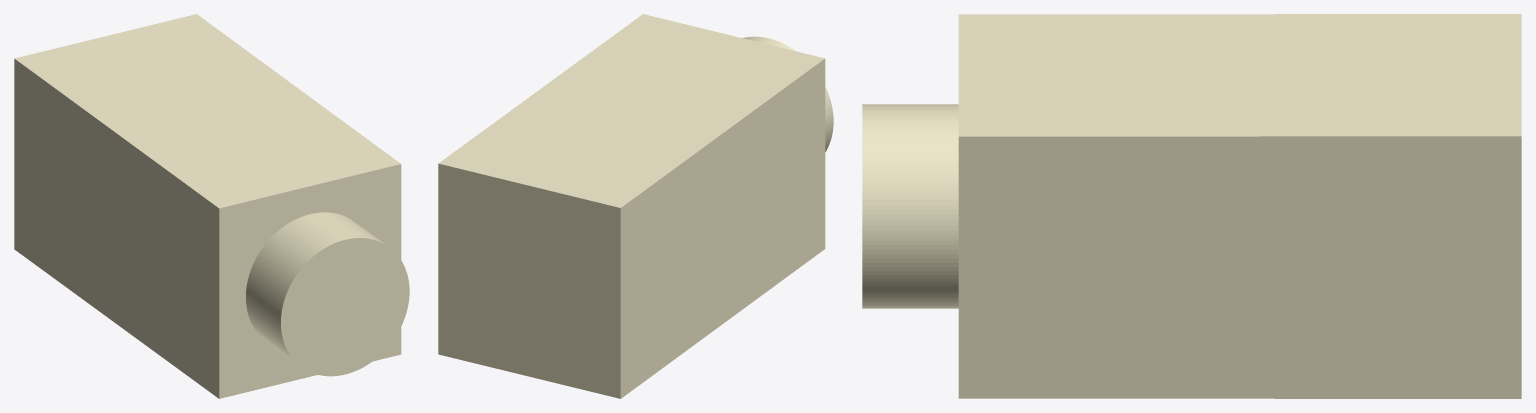
The picture shows the model from 3 angles, left to right: view 1: azimuth 30°, elevation 25°; view 2: azimuth 150°, elevation 25°; view 3: azimuth 270°, elevation 25°; orthographic projection. The views are drawn at different scales.
Visible parts, largest first — view 1: node; view 2: node; view 3: node.
Part boxes in pixels (bbox=[...]): node: bbox=[14, 14, 409, 398]; node: bbox=[438, 14, 833, 398]; node: bbox=[862, 14, 1521, 398].
Size of the model in its own units: 0.0772 by 0.0772 by 0.1757.
